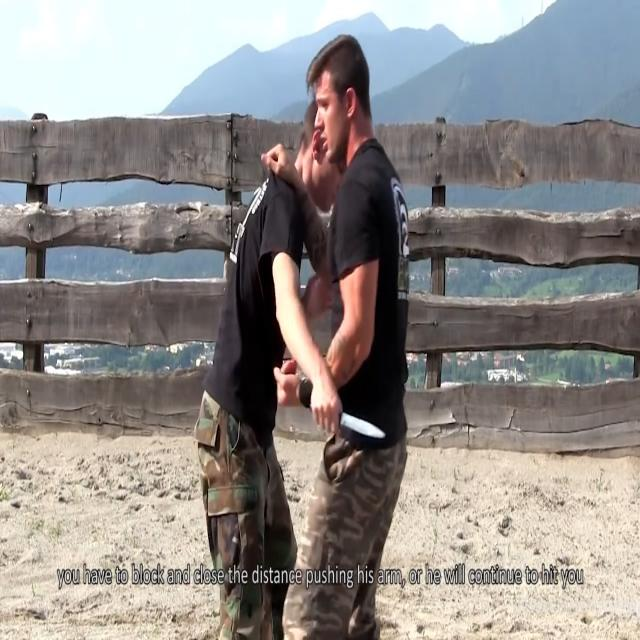knife: (340, 409, 390, 447)
